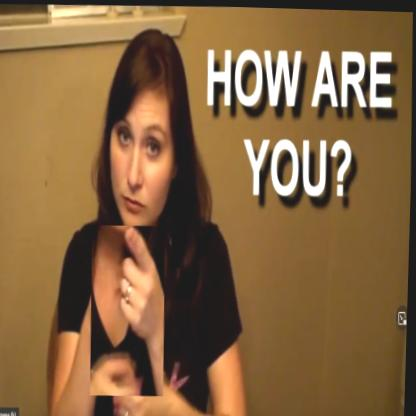HowAreYou: (89, 223, 169, 396)
